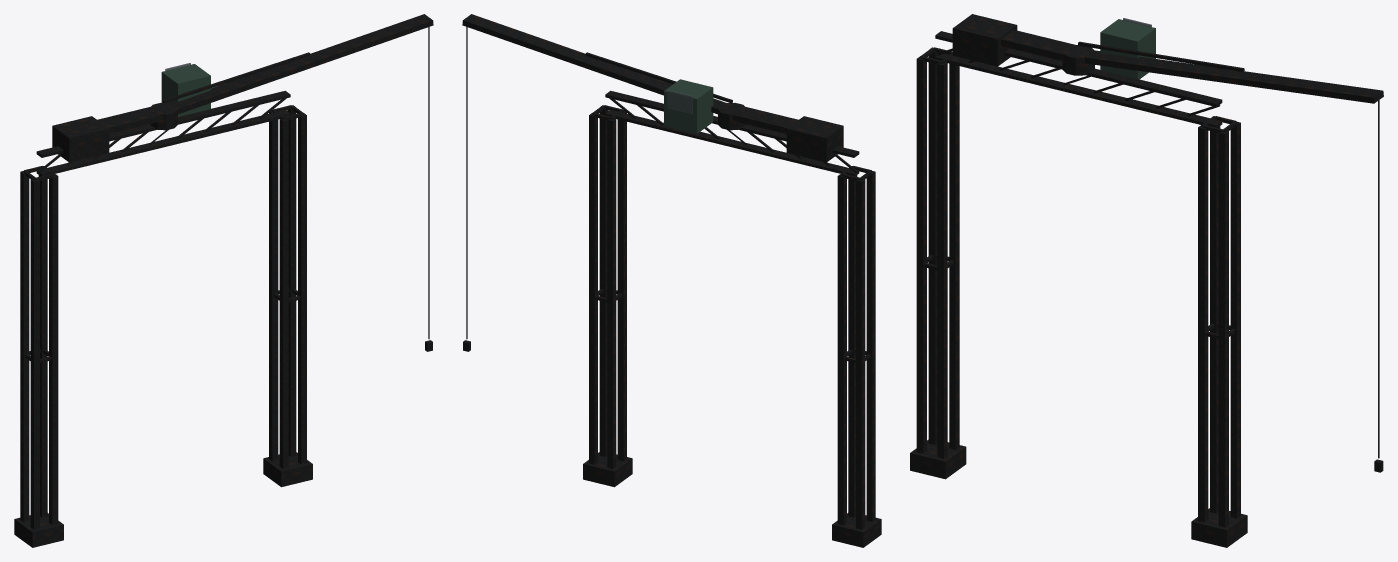
Rendered from B_titan.glb.
3 renders of one model, left to right at view 1: azimuth 30°, elevation 25°; view 2: azimuth 150°, elevation 25°; view 3: azimuth 330°, elevation 25°, orthographic. The views are drawn at different scales.
Parts seen in each view (by area): view 1: B_titan; view 2: B_titan; view 3: B_titan.
Part boxes in pixels (x1=…): B_titan: x1=14, y1=14, x2=433, y2=547; B_titan: x1=462, y1=14, x2=881, y2=547; B_titan: x1=910, y1=14, x2=1383, y2=547.
Size of the model in its own units: 24.62 by 24.72 by 2.94.
Materials: 4 (1 with a texture image).
